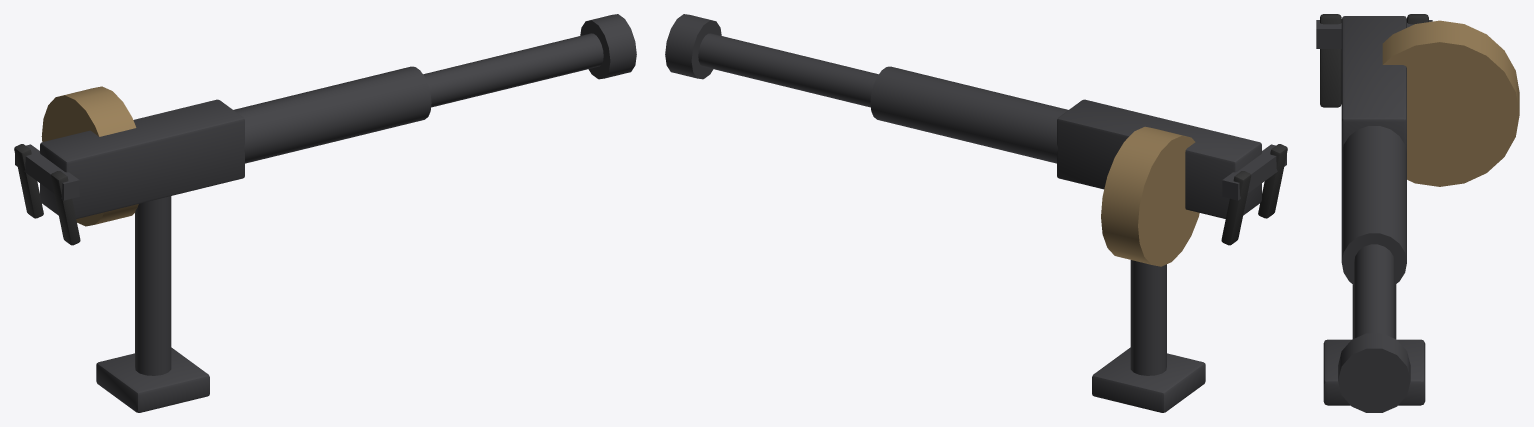
Rendered from dshk.glb.
3 views of the same model, side by side, from view 1: azimuth 30°, elevation 25°; view 2: azimuth 150°, elevation 25°; view 3: azimuth 270°, elevation 25° (orthographic). The views are drawn at different scales.
Parts seen in each view (by area): view 1: dshk; view 2: dshk; view 3: dshk.
Boxes of the visible parts, x1,y1,x2,y2 form: dshk: (14, 14, 636, 412); dshk: (665, 14, 1287, 412); dshk: (1316, 14, 1519, 412).
Size of the model in its own units: 1.11 by 0.51 by 0.28.
